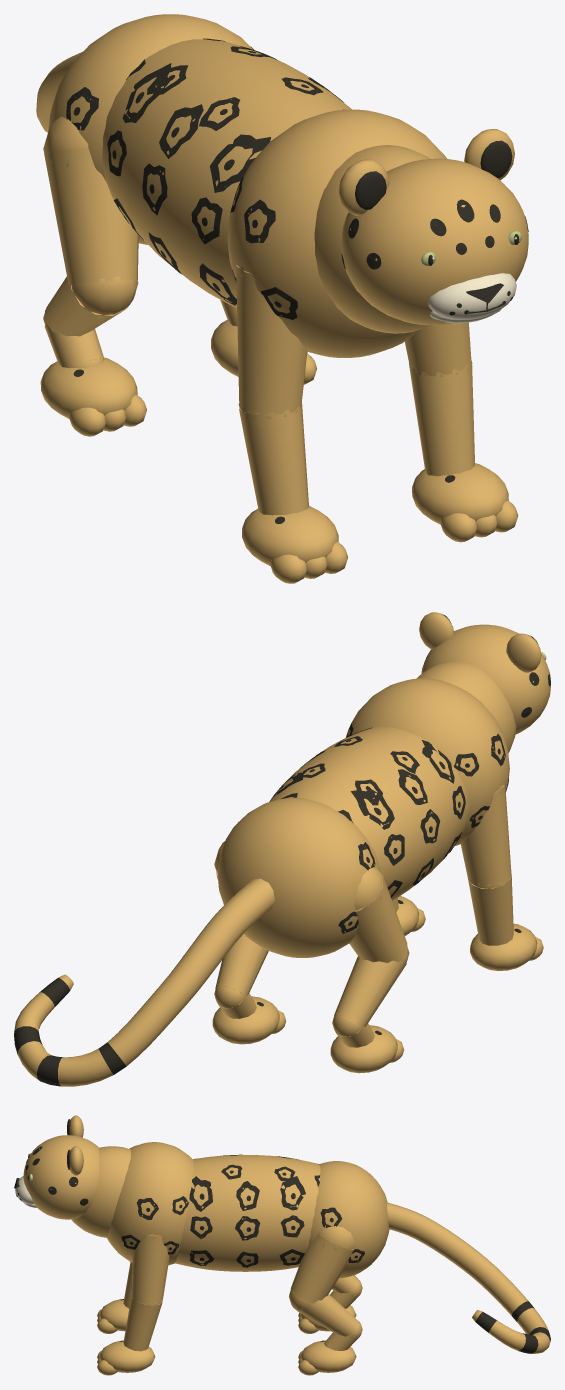
The model's file is animal_jaguar.glb.
The picture shows the model from 3 angles, top to bottom: view 1: azimuth 30°, elevation 25°; view 2: azimuth 150°, elevation 25°; view 3: azimuth 270°, elevation 25°; orthographic projection. The views are drawn at different scales.
Parts seen in each view (by area): view 1: Jaguar_Muscular_Closed_Torso, Jaguar_Broad_Shoulders, Jaguar_Broad_Rounded_Head, Jaguar_Hind_Leg_-1_Bone_0, Jaguar_Powerful_Haunches, Jaguar_Front_Leg_-1_Bone_0, Jaguar_Seated_Flank_Rosettes, Jaguar_Thick_Connected_Neck, Jaguar_Front_Leg_-1_Bone_1, Jaguar_Front_Leg_1_Bone_1, Jaguar_Hind_Paw_-1, Jaguar_Front_Paw_-1 (+19 smaller); view 2: Jaguar_Powerful_Haunches, Jaguar_Muscular_Closed_Torso, Jaguar_Long_Curved_Tail, Jaguar_Broad_Shoulders, Jaguar_Broad_Rounded_Head, Jaguar_Front_Leg_-1_Bone_0, Jaguar_Seated_Flank_Rosettes, Jaguar_Hind_Leg_-1_Bone_0, Jaguar_Hind_Leg_-1_Bone_1, Jaguar_Thick_Connected_Neck, Jaguar_Front_Leg_-1_Bone_1, Jaguar_Hind_Paw_1 (+9 smaller); view 3: Jaguar_Muscular_Closed_Torso, Jaguar_Broad_Shoulders, Jaguar_Long_Curved_Tail, Jaguar_Powerful_Haunches, Jaguar_Broad_Rounded_Head, Jaguar_Seated_Flank_Rosettes, Jaguar_Thick_Connected_Neck, Jaguar_Hind_Leg_1_Bone_0, Jaguar_Front_Leg_1_Bone_0, Jaguar_Front_Leg_1_Bone_1, Jaguar_Hind_Leg_1_Bone_1, Jaguar_Hind_Paw_1 (+9 smaller).
Part boxes in pixels (left/top/right/bottom): Jaguar_Muscular_Closed_Torso: left=102, top=39, right=351, bottom=307; Jaguar_Broad_Shoulders: left=227, top=109, right=446, bottom=357; Jaguar_Broad_Rounded_Head: left=341, top=158, right=528, bottom=325; Jaguar_Hind_Leg_-1_Bone_0: left=44, top=147, right=138, bottom=285; Jaguar_Powerful_Haunches: left=48, top=14, right=253, bottom=244; Jaguar_Front_Leg_-1_Bone_0: left=236, top=265, right=307, bottom=414; Jaguar_Seated_Flank_Rosettes: left=107, top=46, right=343, bottom=305; Jaguar_Thick_Connected_Neck: left=314, top=145, right=432, bottom=333; Jaguar_Front_Leg_-1_Bone_1: left=239, top=401, right=308, bottom=515; Jaguar_Front_Leg_1_Bone_1: left=409, top=361, right=474, bottom=475; Jaguar_Hind_Paw_-1: left=40, top=357, right=137, bottom=418; Jaguar_Front_Paw_-1: left=242, top=505, right=338, bottom=566; Jaguar_Powerful_Haunches: left=217, top=797, right=380, bottom=957; Jaguar_Muscular_Closed_Torso: left=269, top=726, right=469, bottom=900; Jaguar_Long_Curved_Tail: left=14, top=878, right=274, bottom=1086; Jaguar_Broad_Shoulders: left=346, top=678, right=509, bottom=845; Jaguar_Broad_Rounded_Head: left=421, top=624, right=550, bottom=734; Jaguar_Front_Leg_-1_Bone_0: left=461, top=784, right=511, bottom=885; Jaguar_Seated_Flank_Rosettes: left=271, top=727, right=465, bottom=897; Jaguar_Hind_Leg_-1_Bone_0: left=349, top=875, right=407, bottom=962; Jaguar_Hind_Leg_-1_Bone_1: left=334, top=956, right=406, bottom=1026; Jaguar_Thick_Connected_Neck: left=417, top=661, right=516, bottom=753; Jaguar_Front_Leg_-1_Bone_1: left=468, top=872, right=513, bottom=945; Jaguar_Hind_Paw_1: left=212, top=996, right=279, bottom=1044; Jaguar_Muscular_Closed_Torso: left=175, top=1155, right=320, bottom=1271; Jaguar_Broad_Shoulders: left=107, top=1142, right=193, bottom=1265; Jaguar_Long_Curved_Tail: left=387, top=1202, right=550, bottom=1353; Jaguar_Powerful_Haunches: left=308, top=1161, right=389, bottom=1278; Jaguar_Broad_Rounded_Head: left=23, top=1135, right=99, bottom=1219; Jaguar_Seated_Flank_Rosettes: left=189, top=1158, right=305, bottom=1267; Jaguar_Thick_Connected_Neck: left=71, top=1146, right=130, bottom=1237; Jaguar_Hind_Leg_1_Bone_0: left=290, top=1234, right=353, bottom=1303; Jaguar_Front_Leg_1_Bone_0: left=131, top=1234, right=169, bottom=1303; Jaguar_Front_Leg_1_Bone_1: left=123, top=1294, right=162, bottom=1351; Jaguar_Hind_Leg_1_Bone_1: left=297, top=1294, right=358, bottom=1336; Jaguar_Hind_Paw_1: left=300, top=1341, right=356, bottom=1372.
Size of the model in its own units: 0.878 by 1.02 by 2.3.
